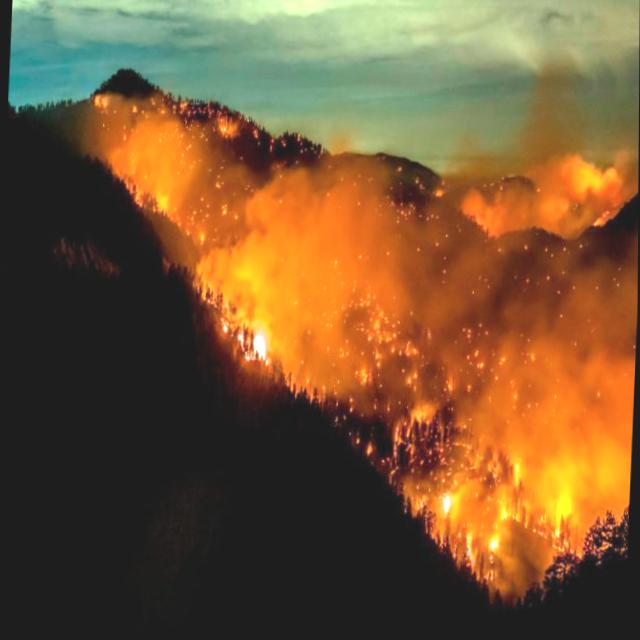Fire: (194, 143, 457, 332), (87, 84, 316, 266), (465, 180, 639, 418), (398, 423, 581, 585), (305, 328, 460, 421), (225, 325, 294, 390)
